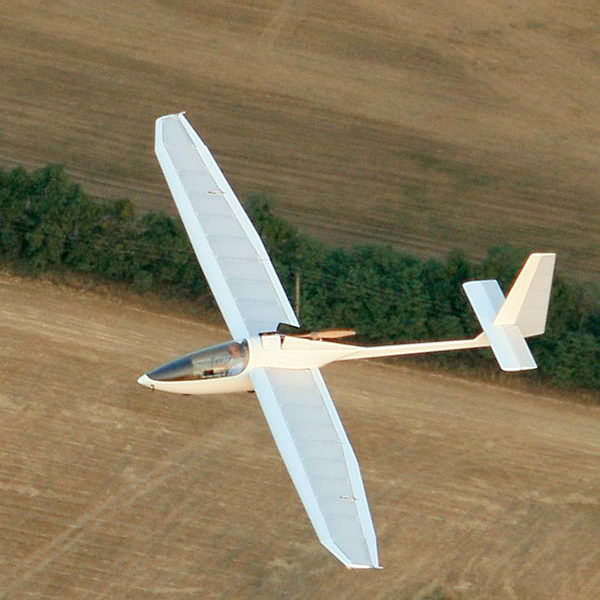Aeronef_de_loisir: (127, 100, 578, 580)
